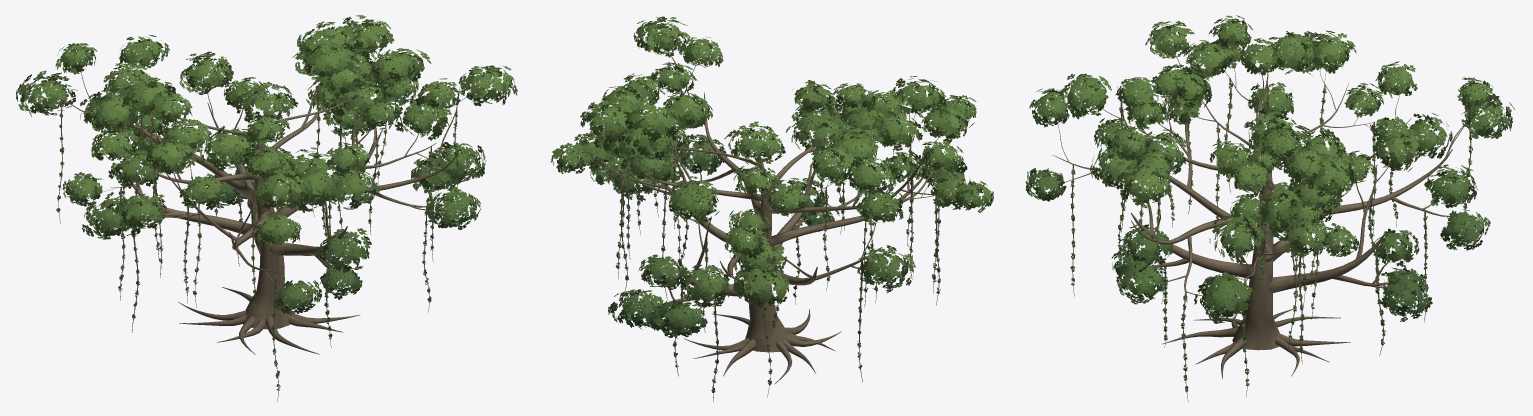
Rendered from tree.gltf.
3 views of the same model, side by side, from view 1: azimuth 30°, elevation 25°; view 2: azimuth 150°, elevation 25°; view 3: azimuth 270°, elevation 25° (orthographic). The views are drawn at different scales.
Parts seen in each view (by area): view 1: Tree_LOD0; view 2: Tree_LOD0; view 3: Tree_LOD0.
Boxes of the visible parts, bbox=[...] form: Tree_LOD0: bbox=[16, 15, 517, 401]; Tree_LOD0: bbox=[550, 16, 993, 401]; Tree_LOD0: bbox=[1025, 15, 1514, 401].
Size of the model in its own units: 36.2 by 21.15 by 36.5.
Materials: 2 (2 with a texture image).
